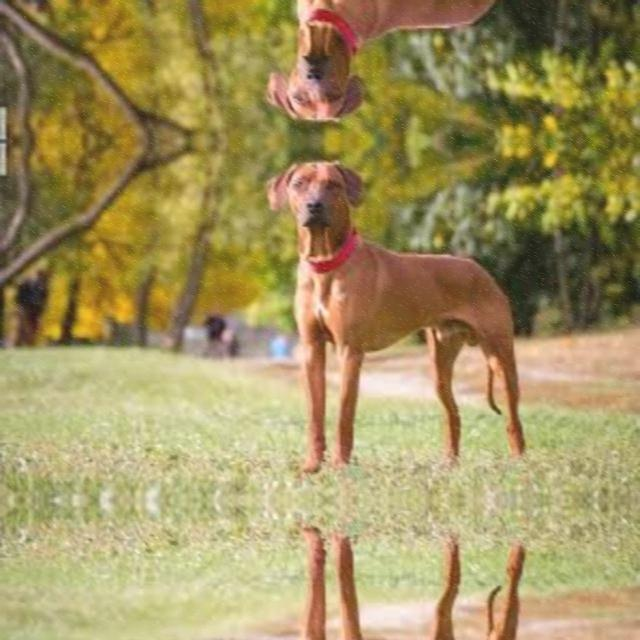dog: (245, 150, 410, 266), (245, 14, 410, 130)
